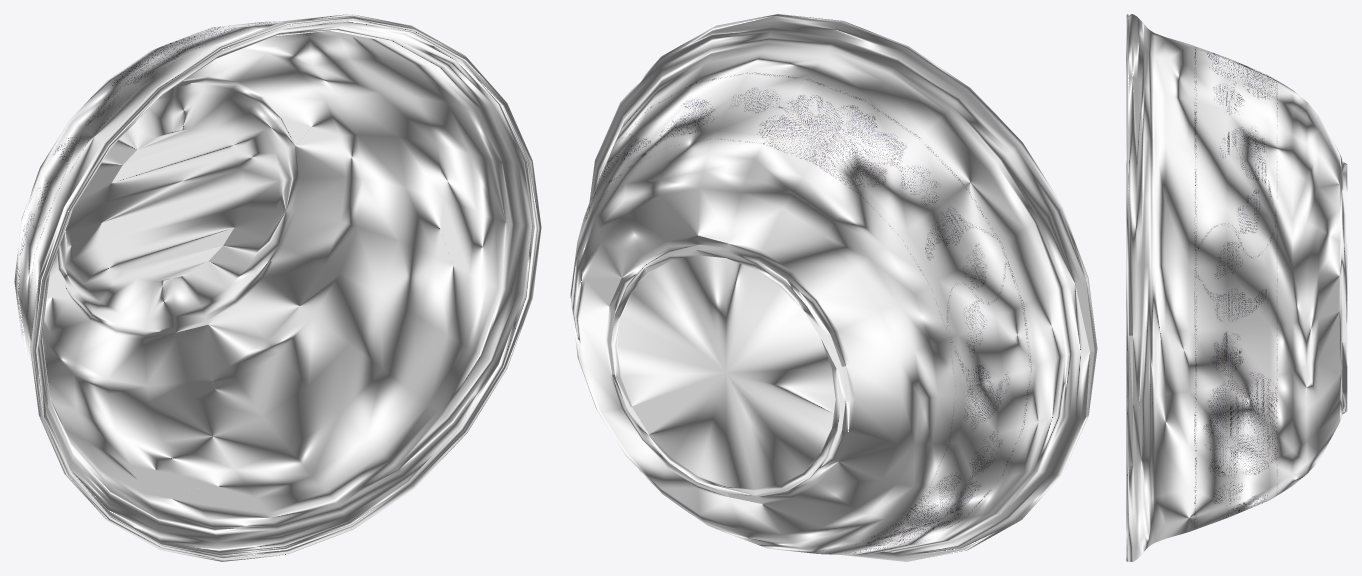
File: model_align.obj
3 renders of one model, left to right at view 1: azimuth 30°, elevation 25°; view 2: azimuth 150°, elevation 25°; view 3: azimuth 270°, elevation 25°, orthographic. The views are drawn at different scales.
Bounding box in the file's own units: 0.1441 × 0.1441 × 0.058.
Materials: 1 (1 with a texture image).
